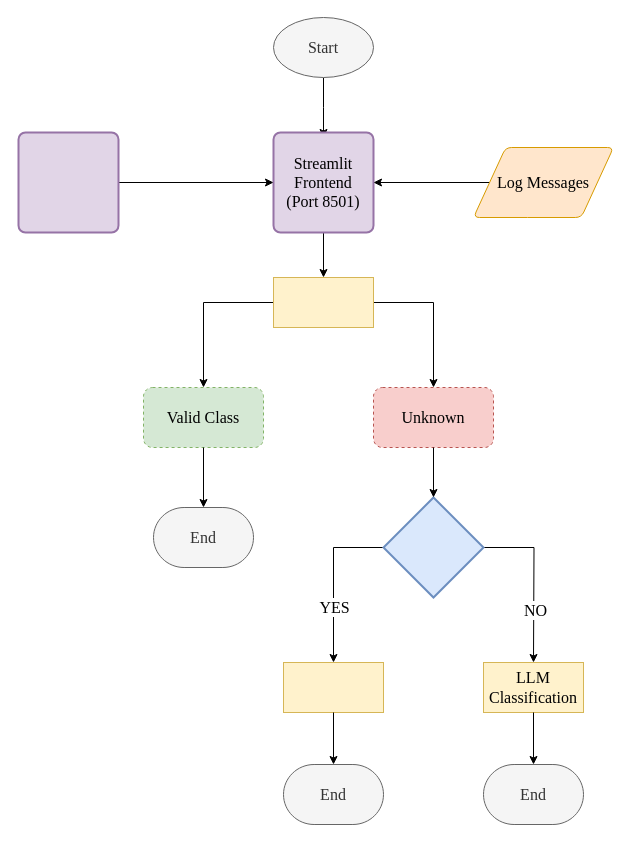
The diagram is 631 pixels wide and 842 high, and some of its shapes have lost their labels. The shapes that lost their labels are listed below. From the top down, each one's centre as x and y in pixels, then its label:
At point (68, 182): "FastAPI Backend (Port 8000)".
At point (323, 302): "Regex Classification".
At point (433, 547): "Enough Training Samples?".
At point (333, 687): "BERT Classification".
